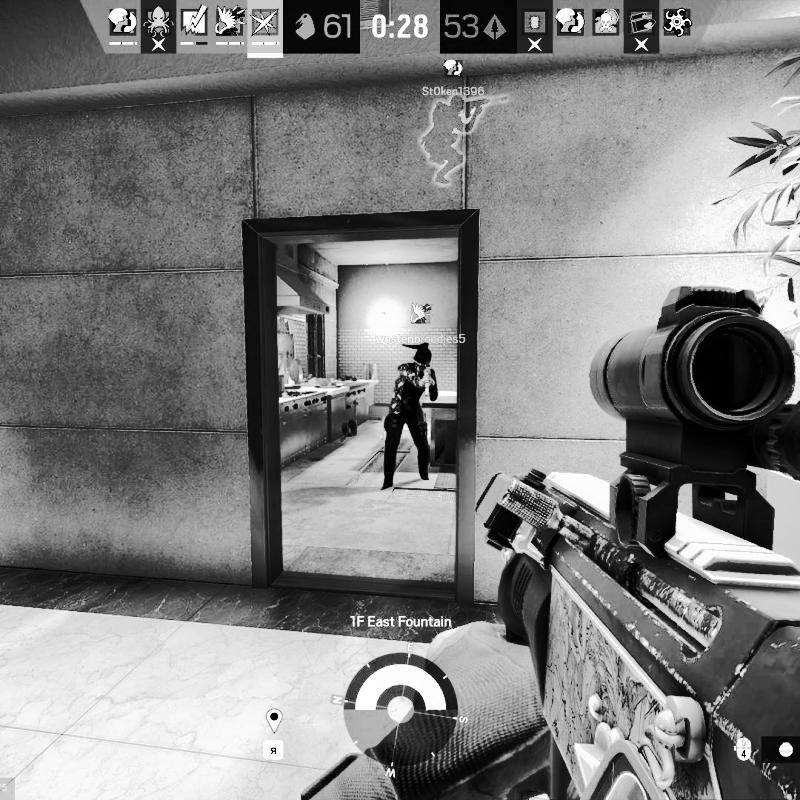Character: (379, 341, 440, 493)
Friend_label: (376, 302, 466, 344), (420, 56, 487, 98)
Head: (413, 344, 431, 371)
